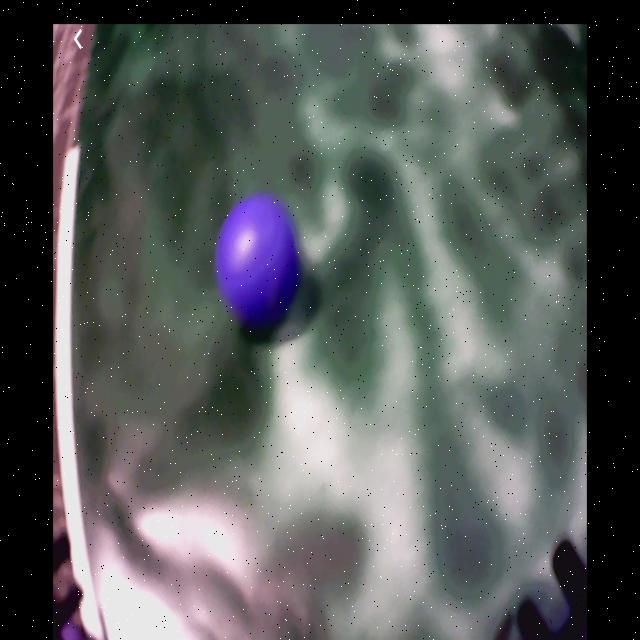ball: (218, 190, 299, 331)
